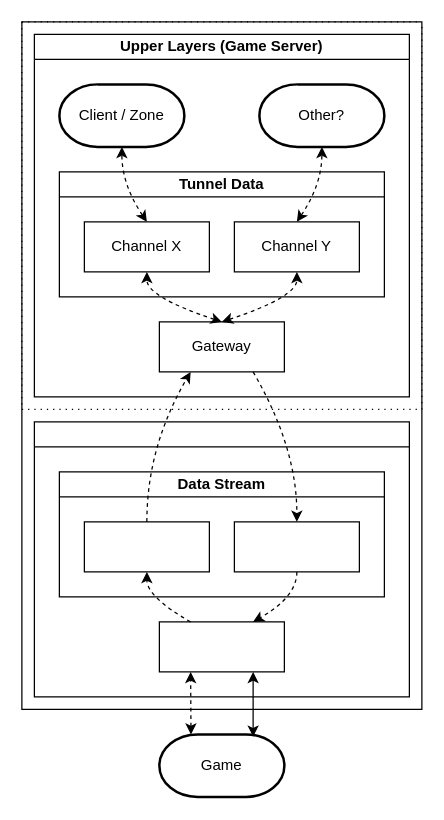
This 444x820 diagram has some shape labels left out. Each missing label, with the box of its shape:
Core: (158, 621, 284, 672)
Input Stream: (83, 521, 209, 572)
Lower Layers: (33, 421, 409, 697)
Output Stream: (233, 521, 359, 572)
